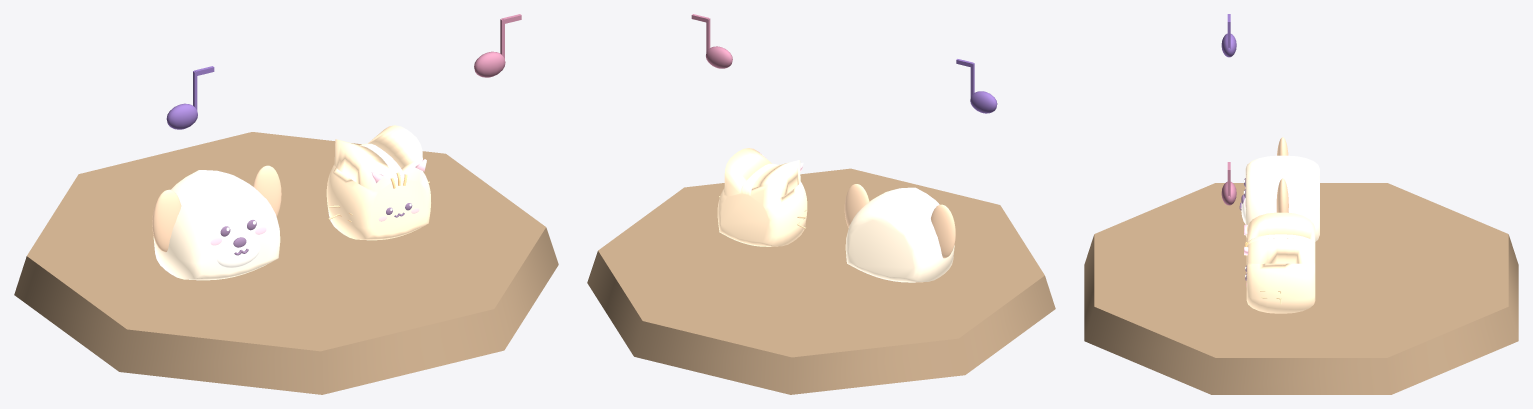
File: building_bandstand_L03.glb
3 views of the same model, side by side, from view 1: azimuth 30°, elevation 25°; view 2: azimuth 150°, elevation 25°; view 3: azimuth 270°, elevation 25° (orthographic). The views are drawn at different scales.
Visible parts, largest first — view 1: Body, object 17, object 7, object 8, object 9; view 2: Body, object 7, object 17, object 8; view 3: Body, object 17, object 7, object 8.
Boxes of the visible parts, <box> form: Body: <box>14,14,558,394</box>; object 17: <box>326,125,430,240</box>; object 7: <box>153,170,280,280</box>; object 8: <box>152,165,281,252</box>; object 9: <box>216,236,260,267</box>; Body: <box>587,14,1055,394</box>; object 7: <box>845,187,954,282</box>; object 17: <box>717,148,807,246</box>; object 8: <box>844,184,955,258</box>; Body: <box>1084,14,1518,394</box>; object 17: <box>1246,212,1315,313</box>; object 7: <box>1245,155,1319,241</box>; object 8: <box>1276,137,1288,212</box>.
Bounding box in the file's own units: 12.01 × 7.11 × 12.01.
